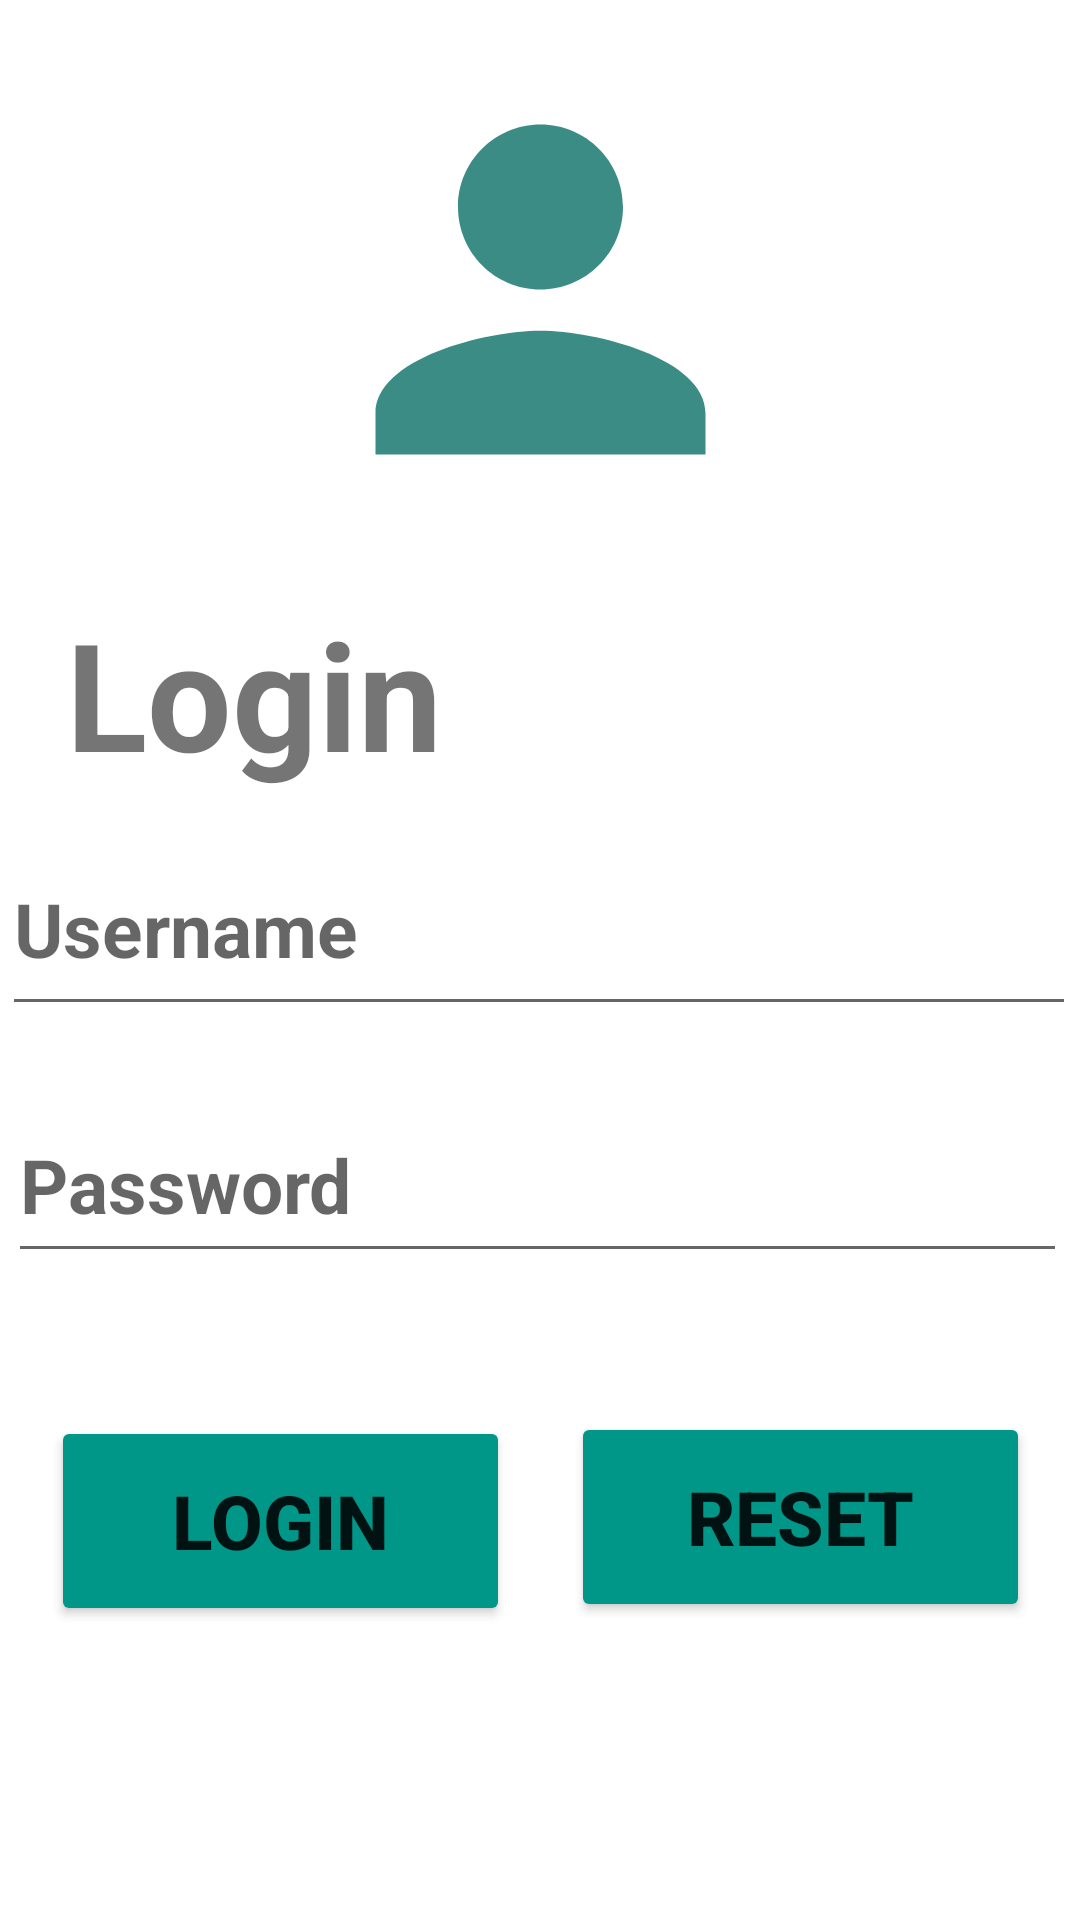

Locate icon controls on the screen. Image size 1080x1920, boxes as (x1, y1, x2, y2).
person: (375, 124, 706, 455)
